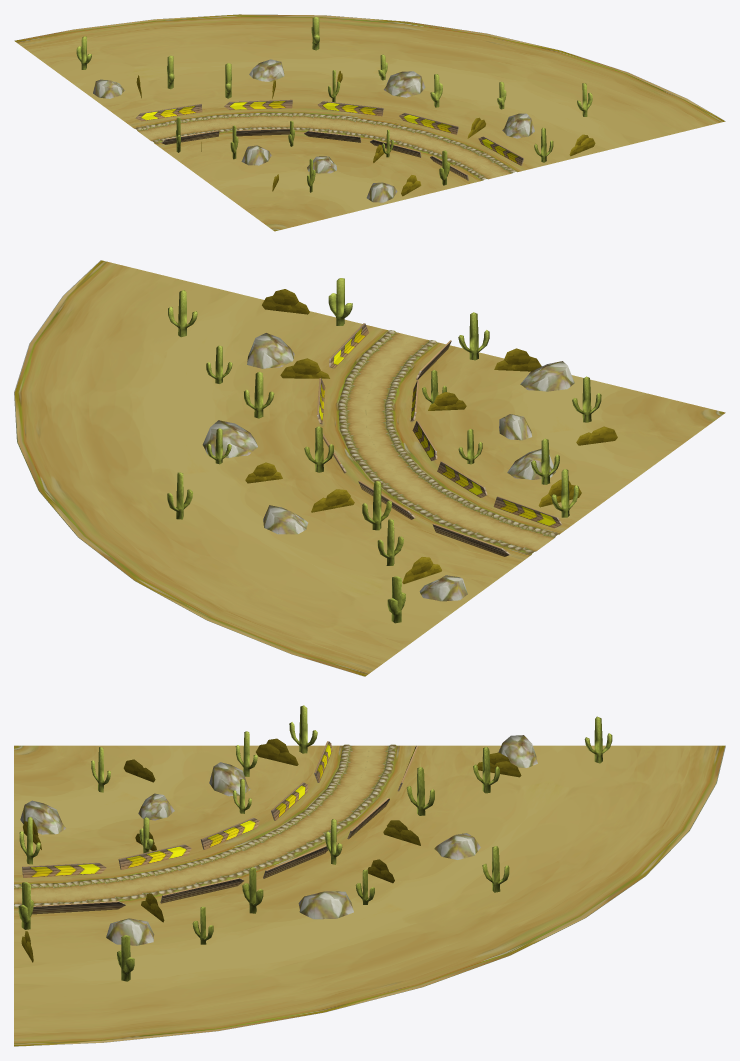
Rendered from DesertRoad01_LeftCurve.FBX.
3 views of the same model, one above another, from view 1: azimuth 30°, elevation 25°; view 2: azimuth 150°, elevation 25°; view 3: azimuth 270°, elevation 25° (orthographic). The views are drawn at different scales.
Visible parts, largest first — view 1: Road, Stone (×7), Fence (×7); view 2: Road, Stone (×7), Bush (×3), Fence, Cactus; view 3: Road, Stone (×7), Fence (×6), Cactus (×7), Bush.
Boxes of the visible parts, x1,y1,x2,y2 form: Road: (14, 14, 725, 231); Stone (×7): (93, 59, 534, 202); Fence (×7): (135, 99, 523, 165); Road: (14, 260, 725, 676); Stone (×7): (202, 333, 574, 601); Bush (×3): (262, 289, 541, 378); Fence: (493, 496, 562, 528); Cactus: (362, 481, 392, 530); Road: (14, 744, 725, 1046); Stone (×7): (20, 735, 537, 945); Fence (×6): (22, 817, 328, 914); Cactus (×7): (117, 705, 612, 981); Bush: (256, 738, 298, 765).
Bounding box in the file's own units: 10000 × 828 × 10000.
